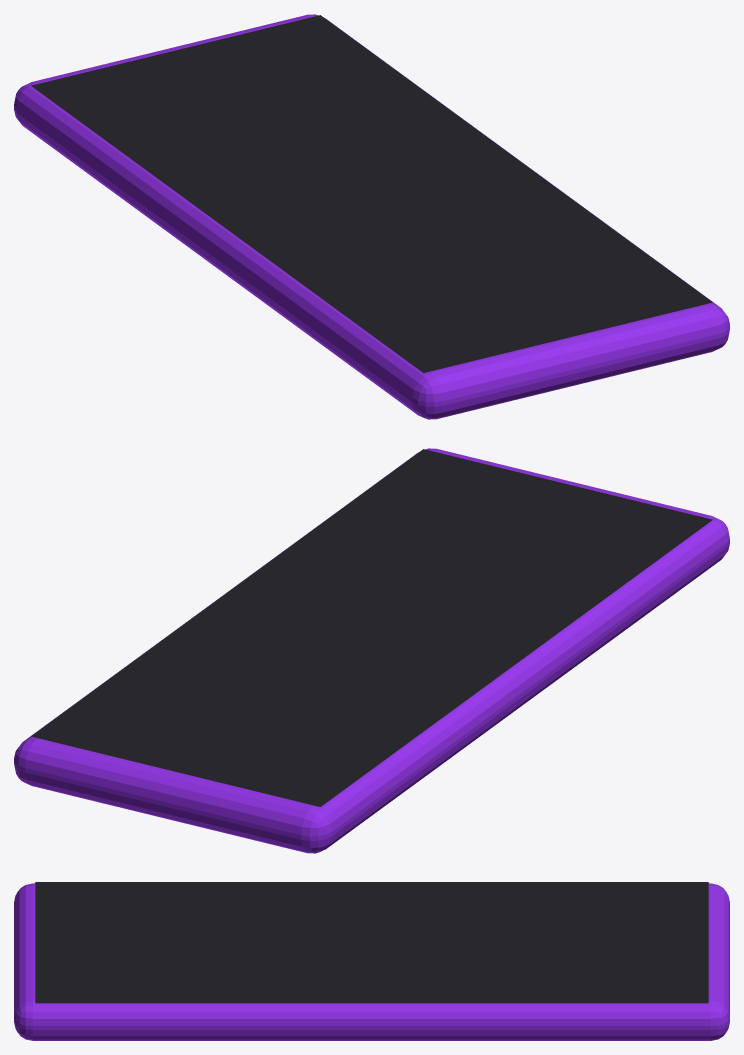
The model's file is vivo-v-model-3-flagship-2021.glb.
The picture shows the model from 3 angles, top to bottom: view 1: azimuth 30°, elevation 25°; view 2: azimuth 150°, elevation 25°; view 3: azimuth 270°, elevation 25°; orthographic projection. The views are drawn at different scales.
Visible parts, largest first — view 1: Phone_Screen, Phone_Body; view 2: Phone_Screen, Phone_Body; view 3: Phone_Screen, Phone_Body.
Boxes of the visible parts, box(x1,y1,x2,y2) form: Phone_Screen: box(31, 15, 712, 372); Phone_Body: box(14, 14, 729, 419); Phone_Screen: box(31, 449, 712, 806); Phone_Body: box(14, 448, 729, 853); Phone_Screen: box(35, 882, 708, 1003); Phone_Body: box(14, 883, 729, 1040).
Size of the model in its own units: 0.0706 by 0.0097 by 0.1622.
